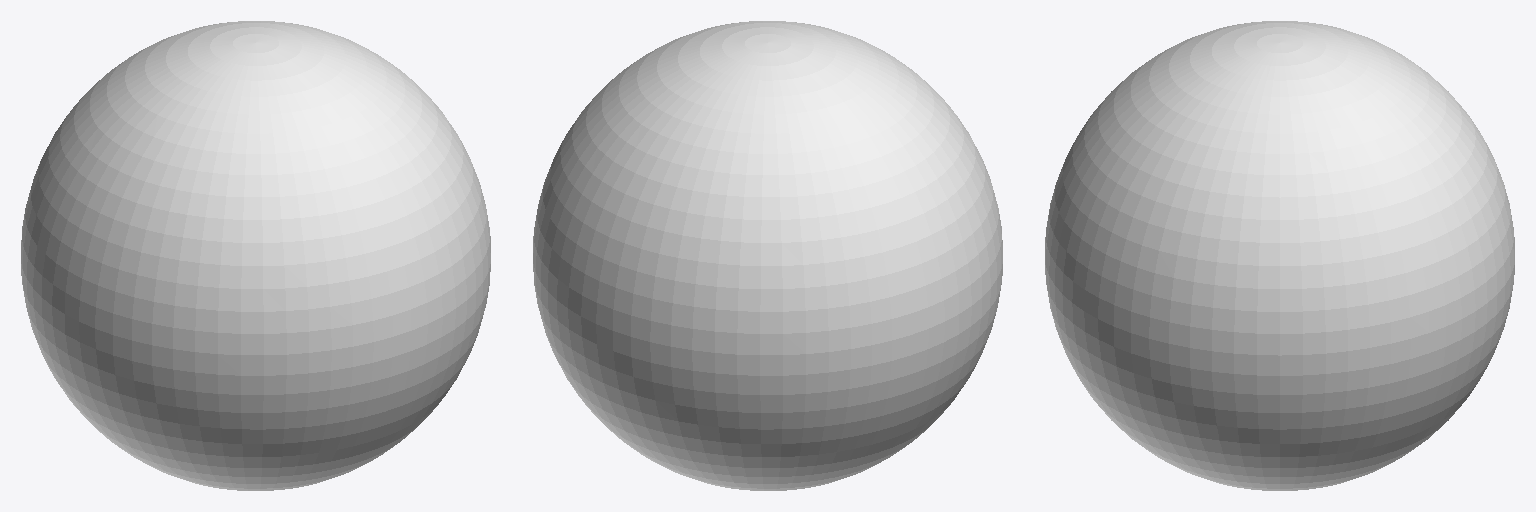
3 views of the same model, side by side, from view 1: azimuth 30°, elevation 25°; view 2: azimuth 150°, elevation 25°; view 3: azimuth 270°, elevation 25° (orthographic).
Visible parts, largest first — view 1: 000_Sphere; view 2: 000_Sphere; view 3: 000_Sphere.
Boxes of the visible parts, x1=… form: 000_Sphere: x1=21, y1=21, x2=490, y2=490; 000_Sphere: x1=533, y1=21, x2=1002, y2=490; 000_Sphere: x1=1045, y1=21, x2=1514, y2=490.
Bounding box in the file's own units: 100 × 100 × 100.